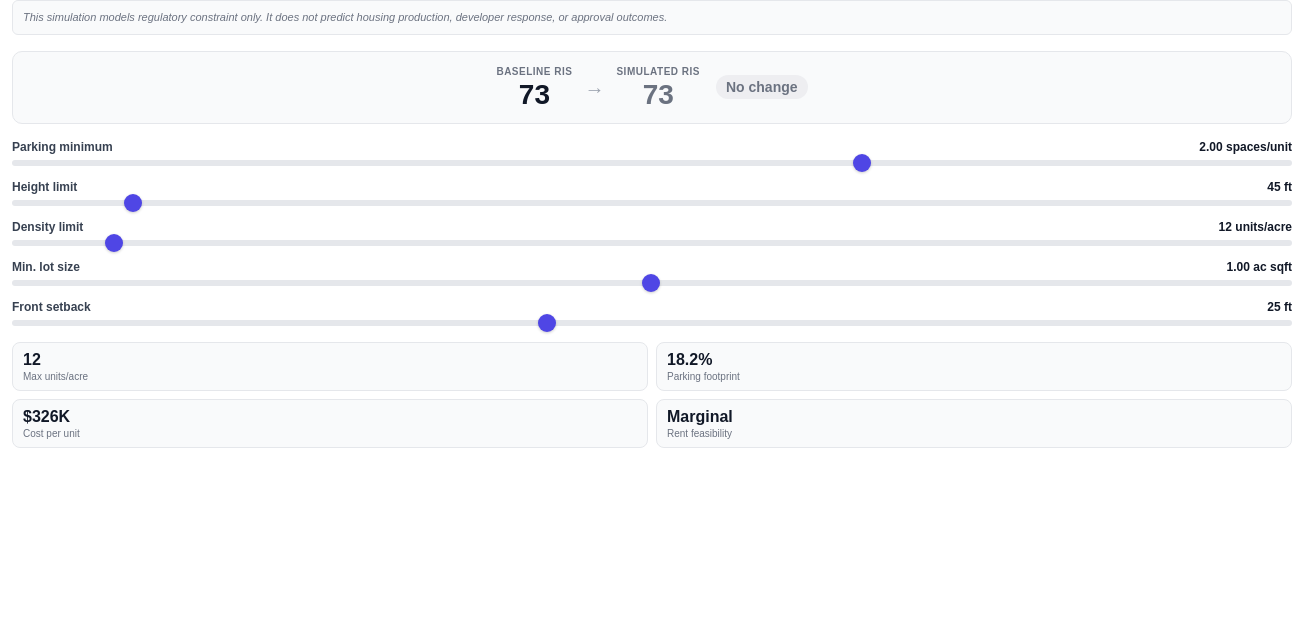
Test: WhatIfPanel › reset button restores all sliders to baseline values
Note: Change both sliders
Set the slider named "Parking minimum slider" to "0" at [20, 162], box 12,160 -> 1292,166
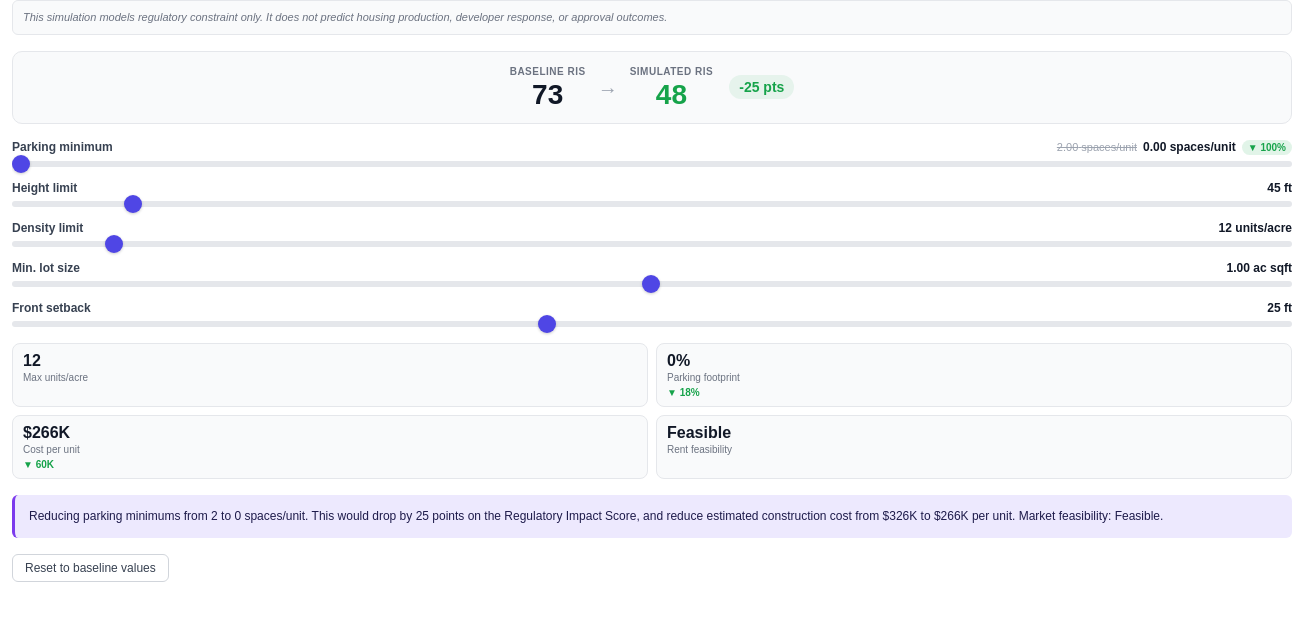
Set the slider named "Height limit slider" to "200" at [1003, 204], box 12,200 -> 1292,206
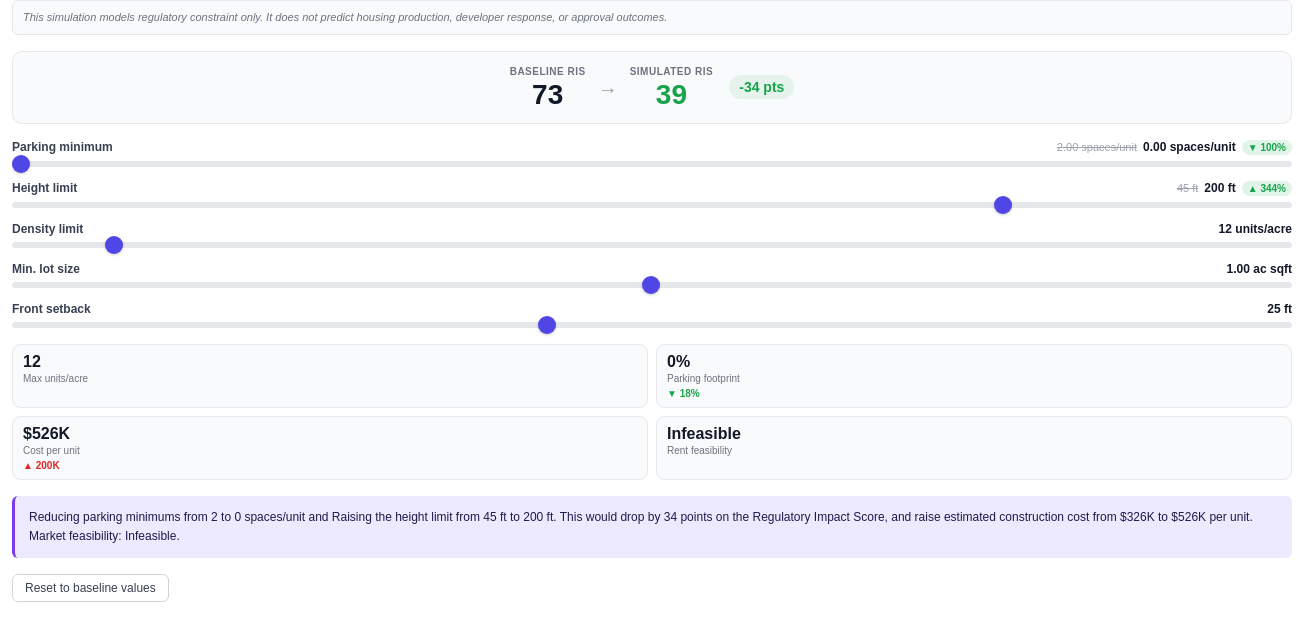
Click the button "Reset to baseline values" at [90, 588], box 12,574 -> 169,602
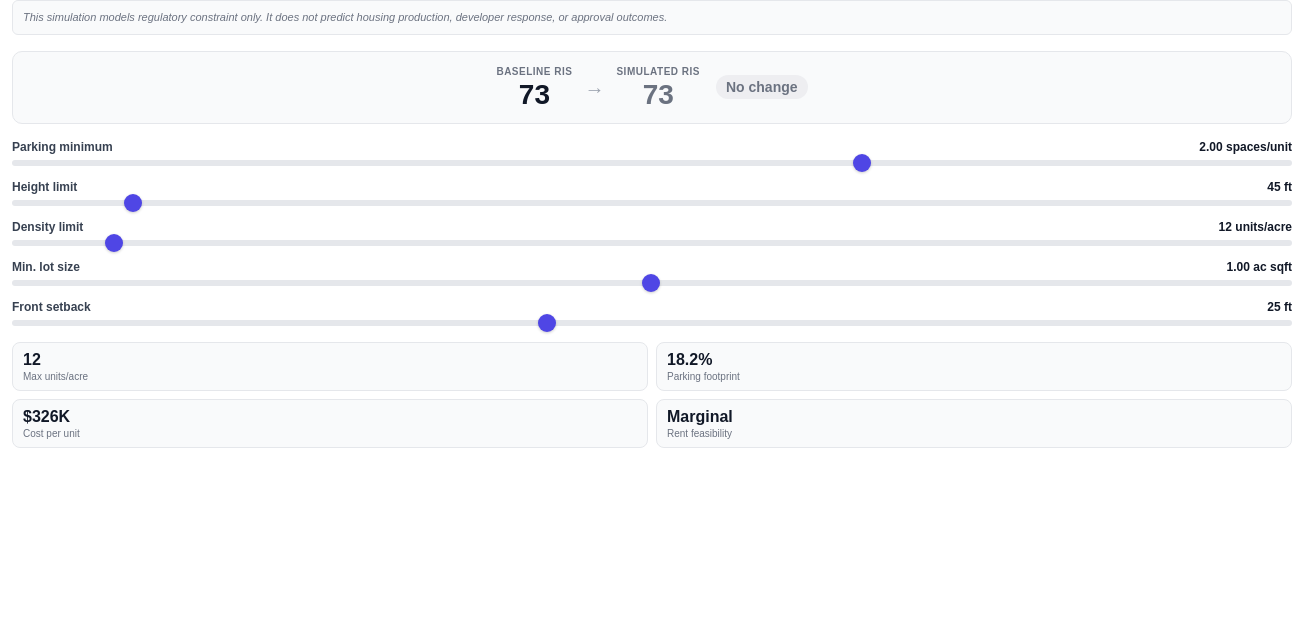
Expected: the slider named "Parking minimum slider" holds "2", 12,160 -> 1292,166
Expected: the slider named "Height limit slider" holds "45", 12,200 -> 1292,206
Expected: the button "Reset to baseline values" is gone
